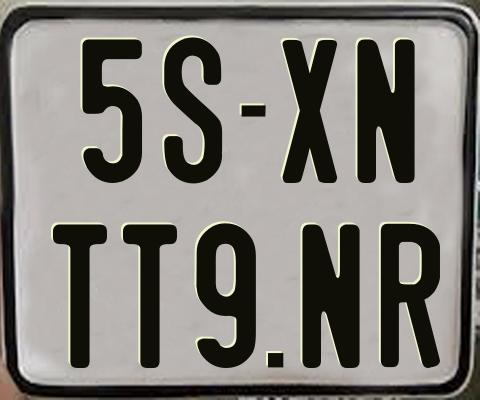5: (81, 38, 147, 182)
9: (196, 223, 261, 371)
N: (300, 223, 362, 368), (357, 36, 417, 184)
R: (381, 223, 442, 370)
S: (162, 36, 225, 189)
T: (53, 222, 113, 372), (121, 224, 180, 369)
X: (281, 37, 341, 186)
